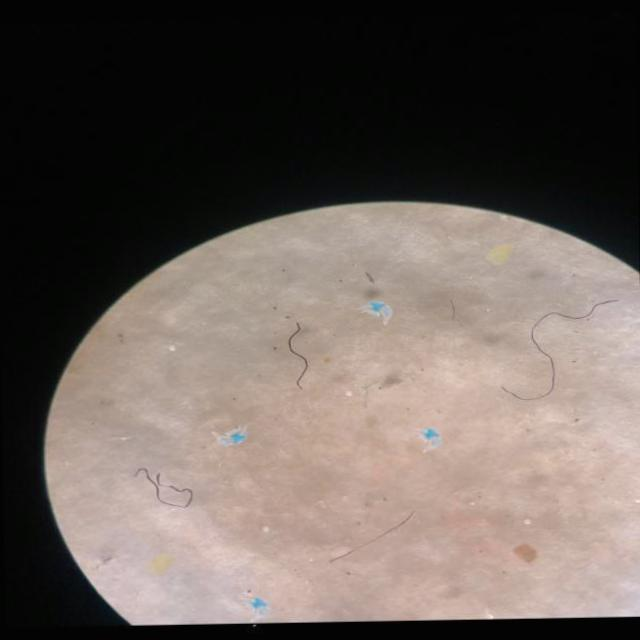fiber: (502, 300, 618, 400), (328, 511, 413, 561), (135, 467, 192, 507), (287, 321, 308, 388)
film: (361, 300, 391, 321), (218, 426, 240, 446), (418, 426, 437, 449)
fragment: (486, 244, 512, 264), (513, 544, 536, 562), (149, 554, 170, 572)
pellet: (167, 345, 174, 351), (262, 526, 269, 532), (345, 390, 351, 396), (524, 518, 530, 523)
